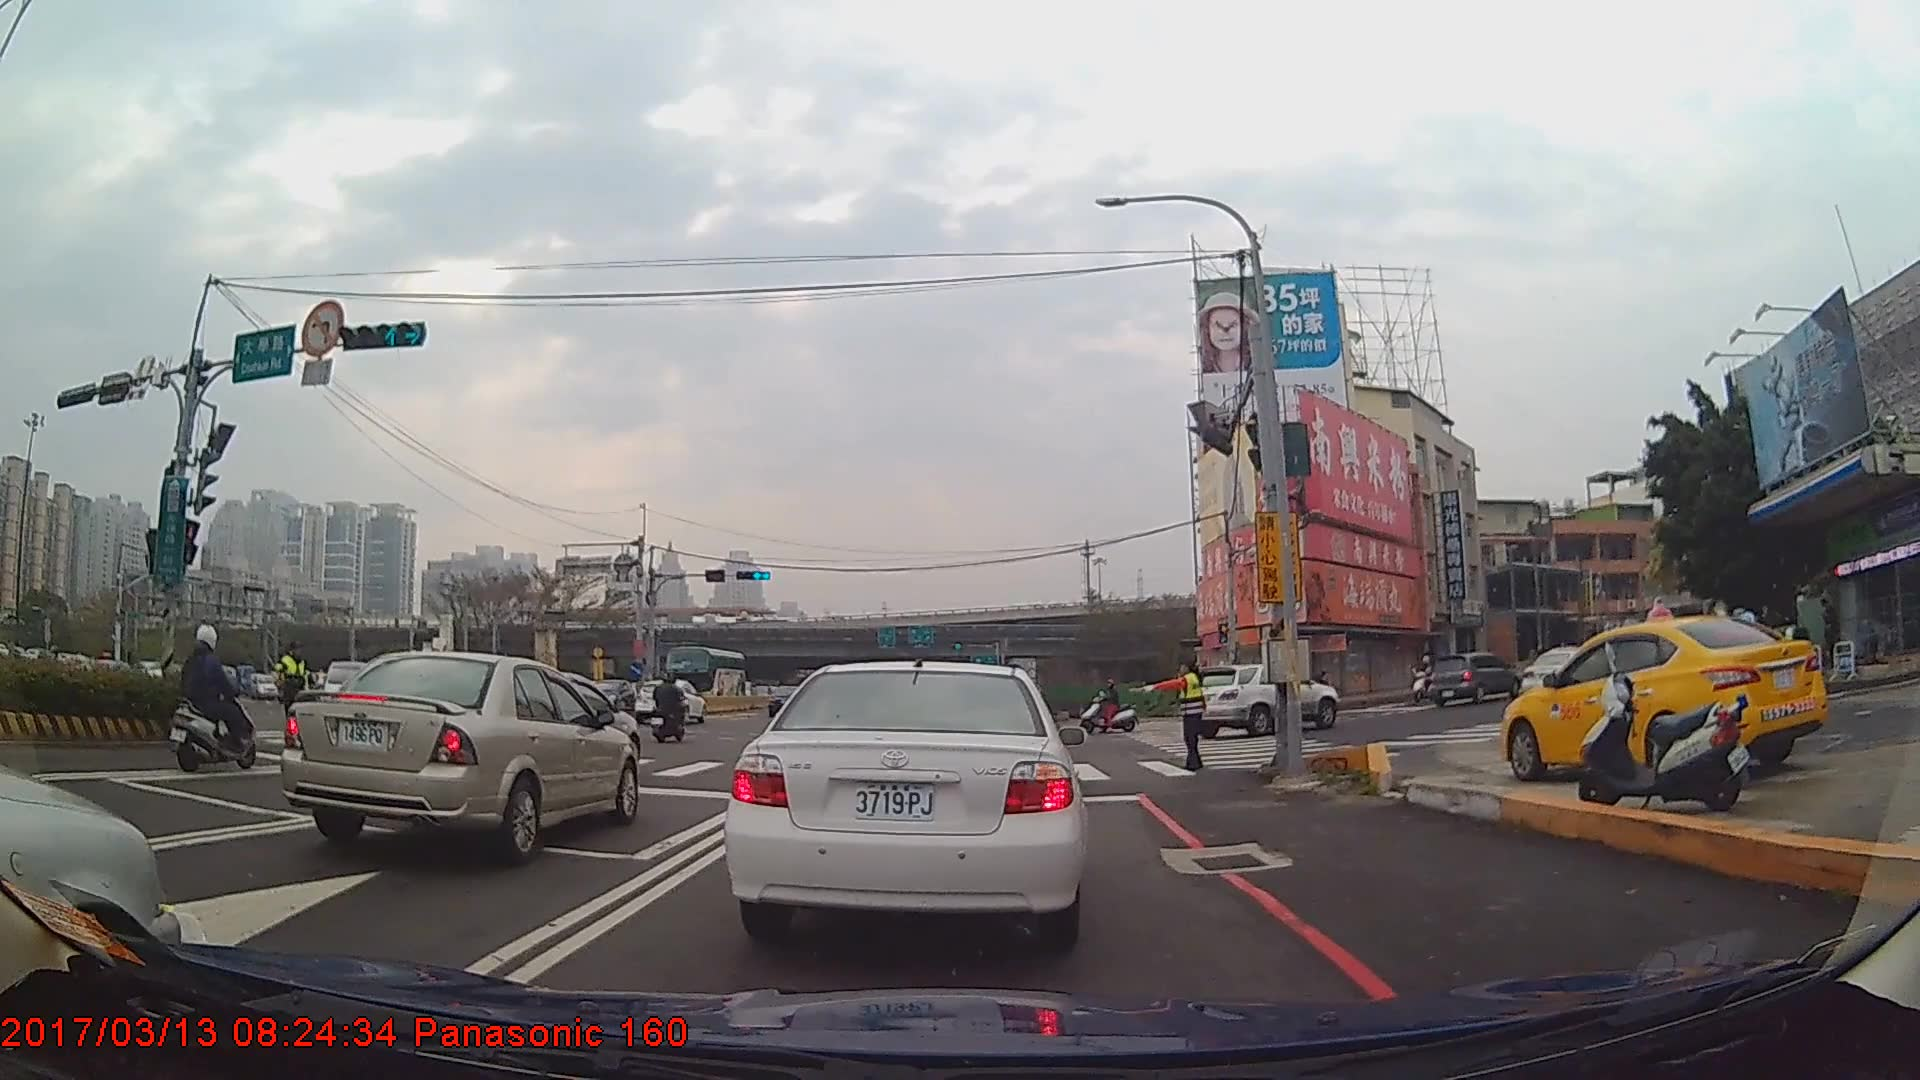pedestrian: (1129, 657, 1211, 775), (272, 641, 317, 747)
rider: (169, 621, 264, 771), (1082, 679, 1140, 734), (649, 672, 687, 741), (660, 677, 684, 736), (1410, 655, 1439, 701)
vehicle: (719, 654, 1087, 944), (278, 649, 637, 864), (1500, 609, 1826, 787), (1184, 662, 1336, 736), (1423, 650, 1517, 708), (1517, 645, 1595, 705), (663, 645, 745, 703), (631, 676, 704, 729)
